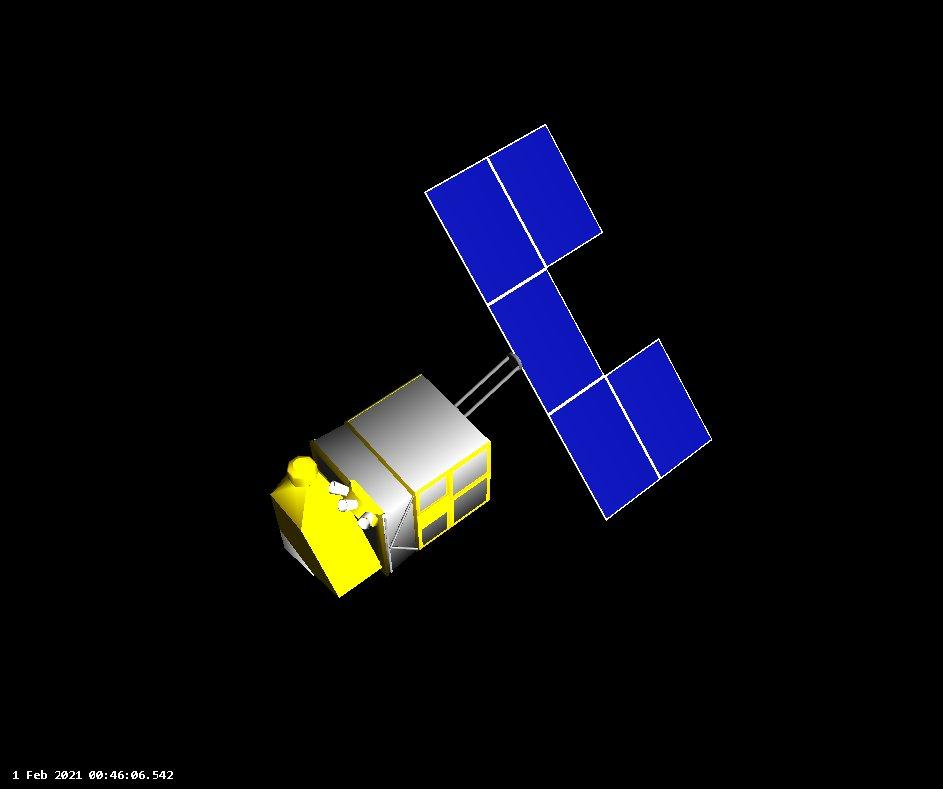body: (259, 372, 494, 605)
solar: (422, 118, 714, 522)
thruster: (324, 476, 352, 496), (358, 508, 378, 533), (332, 496, 359, 514)
